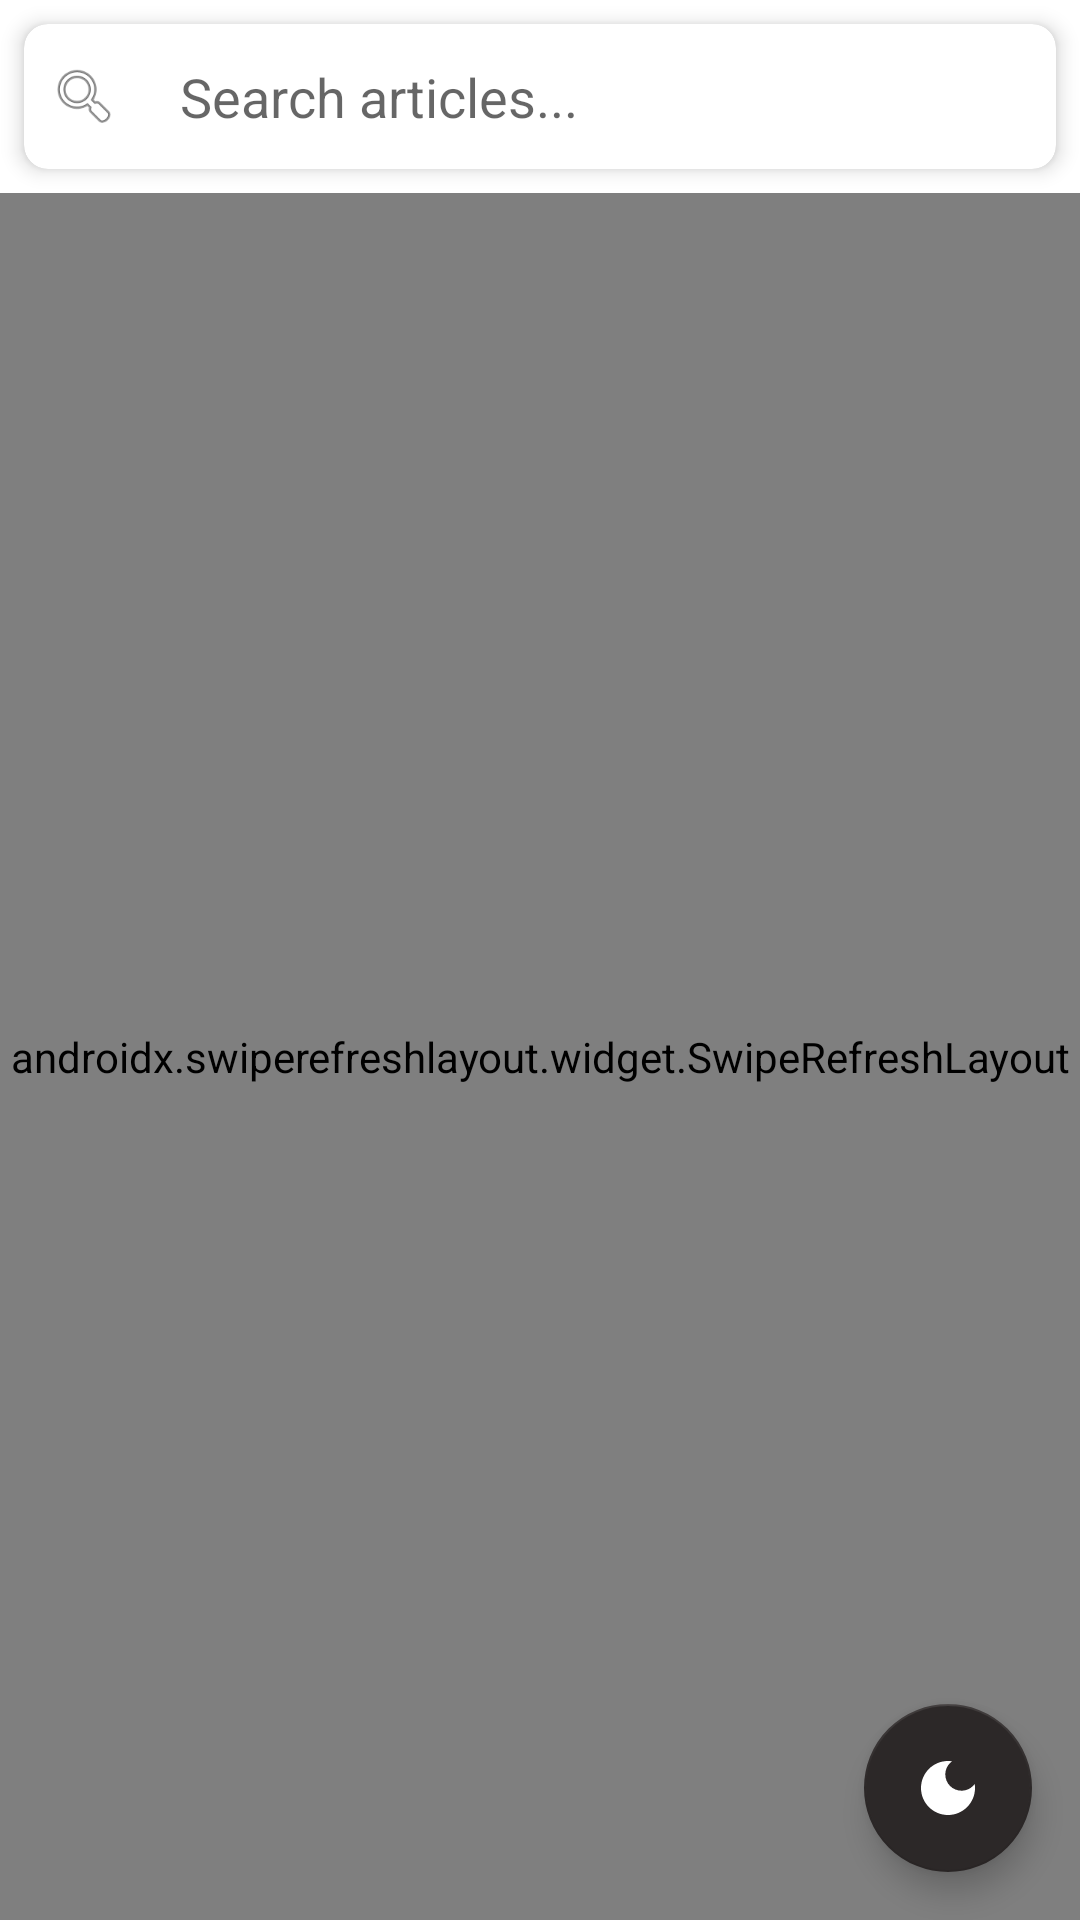

Named icons in this screenshot (1080px x 1920px) and their bounding boxes, [left=x1, top=y1, right=x2, bottom=y2]:
Toggle dark mode: [left=864, top=1704, right=1032, bottom=1872]
